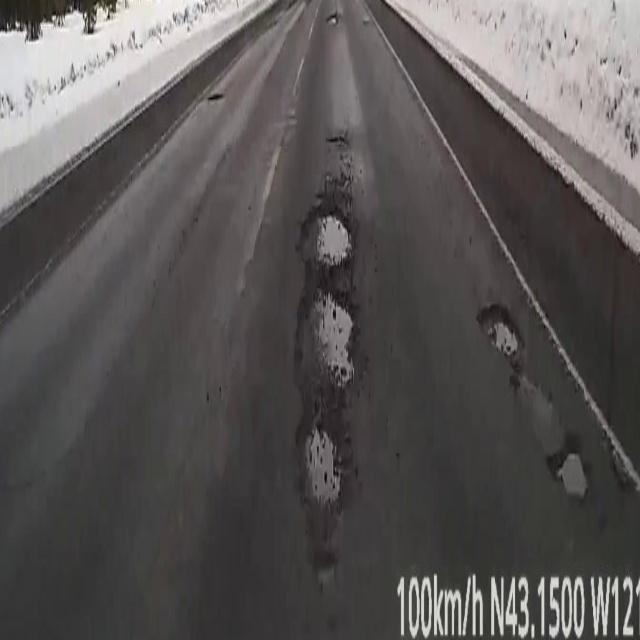pothole: (481, 306, 585, 510), (294, 264, 356, 514), (207, 91, 224, 101), (328, 14, 337, 21)
